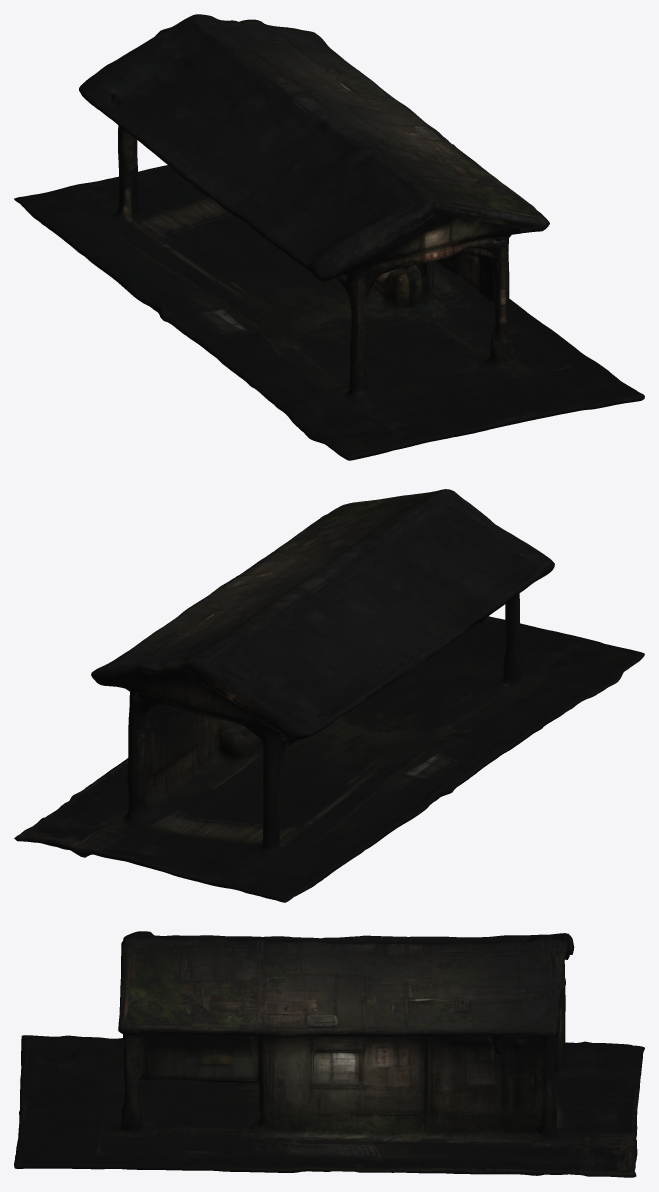
Rendered from Night_Station_0423101055_texture.fbx.
The picture shows the model from 3 angles, top to bottom: view 1: azimuth 30°, elevation 25°; view 2: azimuth 150°, elevation 25°; view 3: azimuth 270°, elevation 25°; orthographic projection. The views are drawn at different scales.
Parts seen in each view (by area): view 1: Mesh1; view 2: Mesh1; view 3: Mesh1.
Part boxes in pixels (x1=…): Mesh1: x1=14, y1=14, x2=644, y2=460; Mesh1: x1=14, y1=489, x2=644, y2=902; Mesh1: x1=14, y1=931, x2=644, y2=1177.
Size of the model in its own units: 100 by 60.46 by 200.
Materials: 1 (1 with a texture image).
